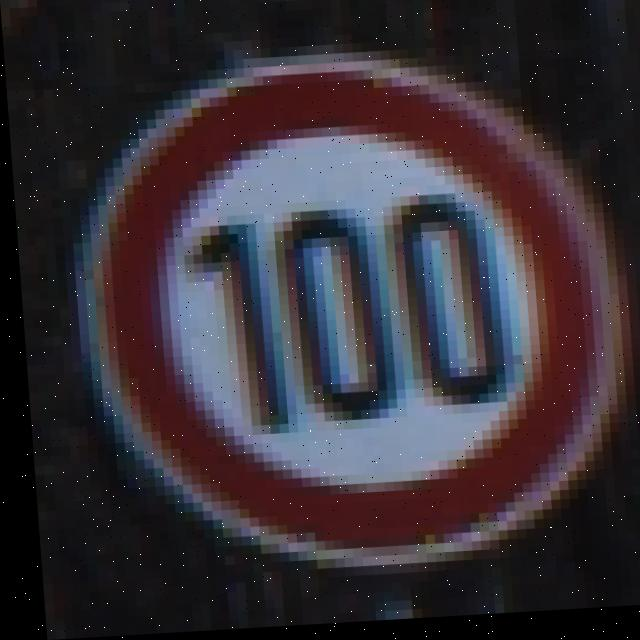speed_limit_100: (63, 43, 619, 579)
